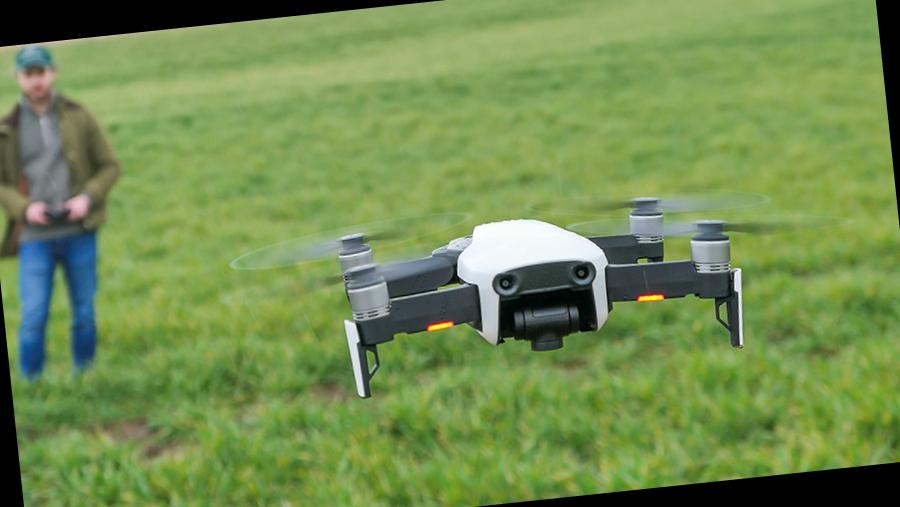drone: (202, 164, 813, 402)
